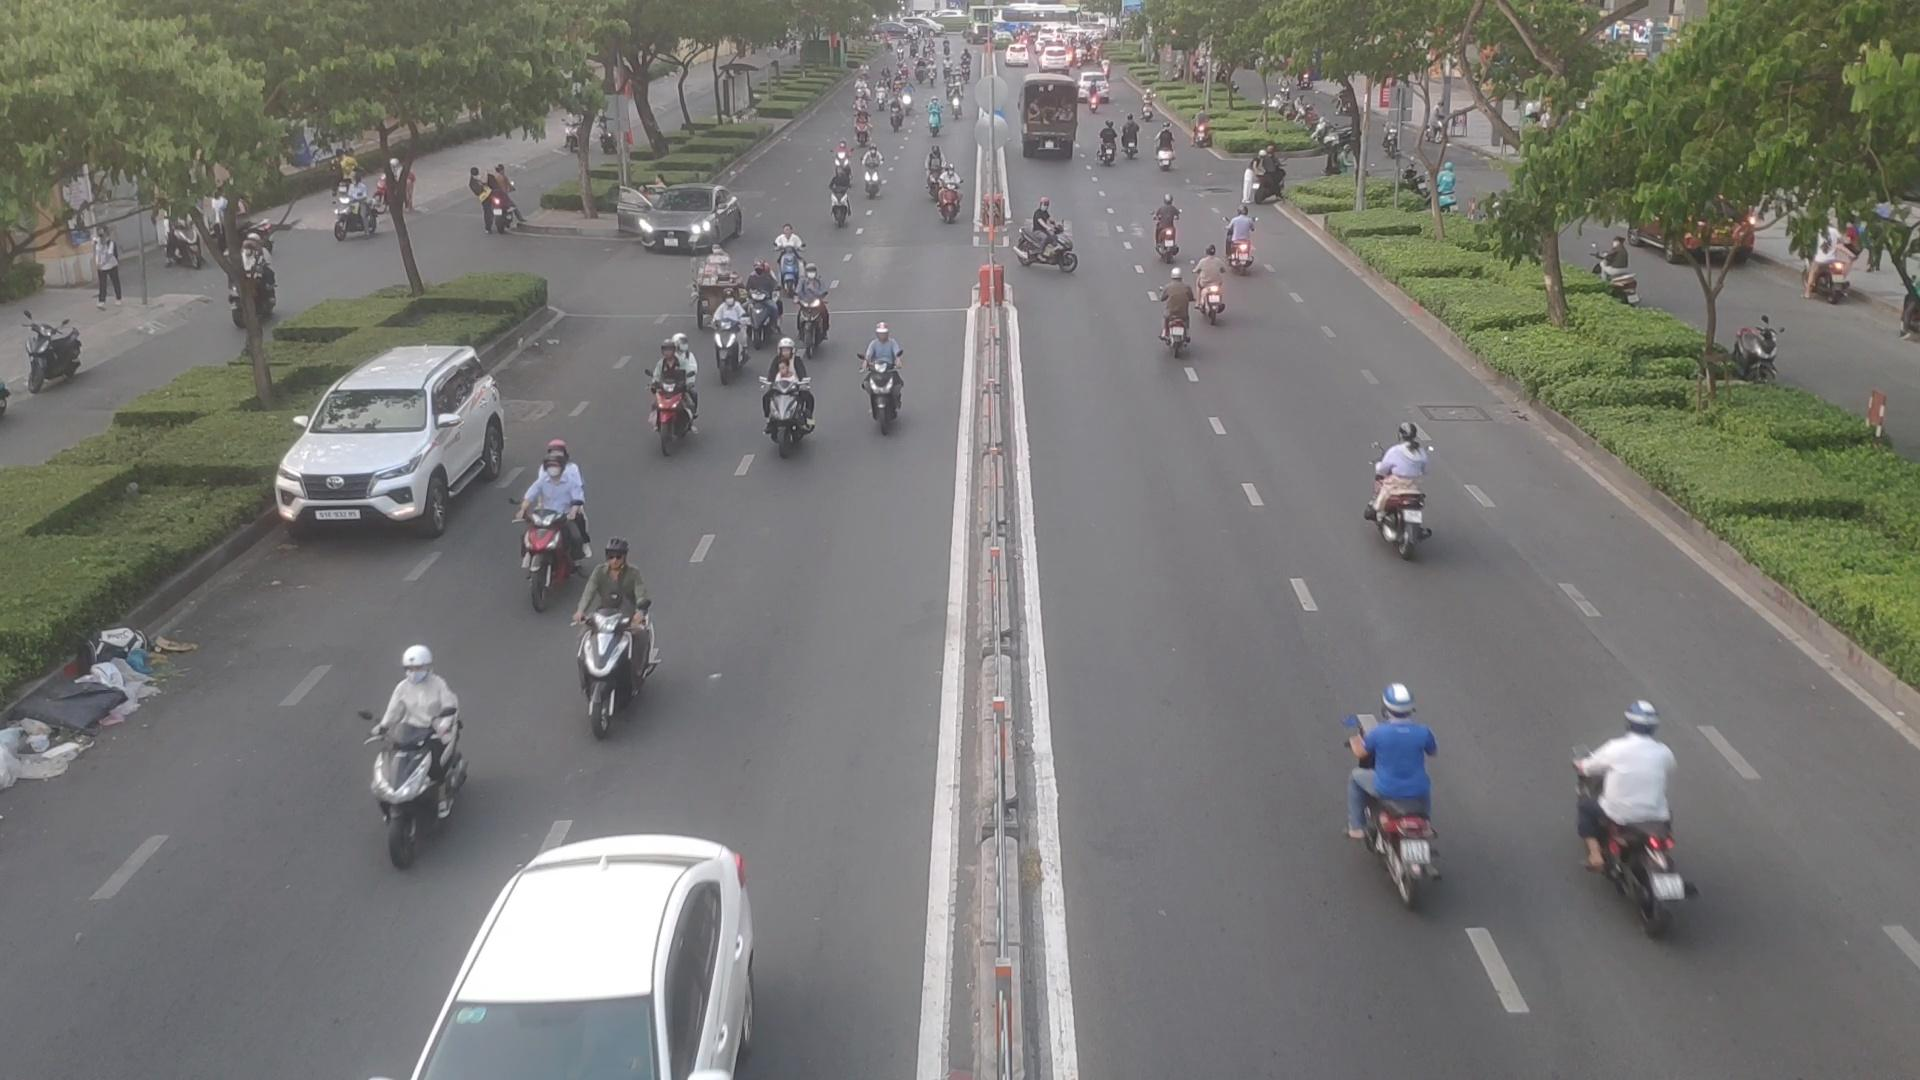car: (451, 836, 756, 1080), (273, 345, 512, 533), (620, 187, 745, 258)
motorbike: (1577, 696, 1706, 947), (1342, 683, 1451, 890), (371, 637, 464, 851), (578, 533, 650, 737), (520, 433, 580, 609), (1370, 411, 1436, 564), (760, 336, 814, 462), (651, 330, 702, 454), (862, 320, 910, 431), (1139, 179, 1185, 276), (1011, 196, 1069, 272), (1156, 256, 1196, 360), (796, 260, 831, 367), (742, 262, 783, 343), (1193, 236, 1226, 328), (1216, 207, 1261, 262), (818, 160, 851, 233), (1246, 149, 1291, 200), (1095, 111, 1121, 171), (862, 141, 889, 196), (1156, 127, 1183, 177), (940, 160, 960, 219)
